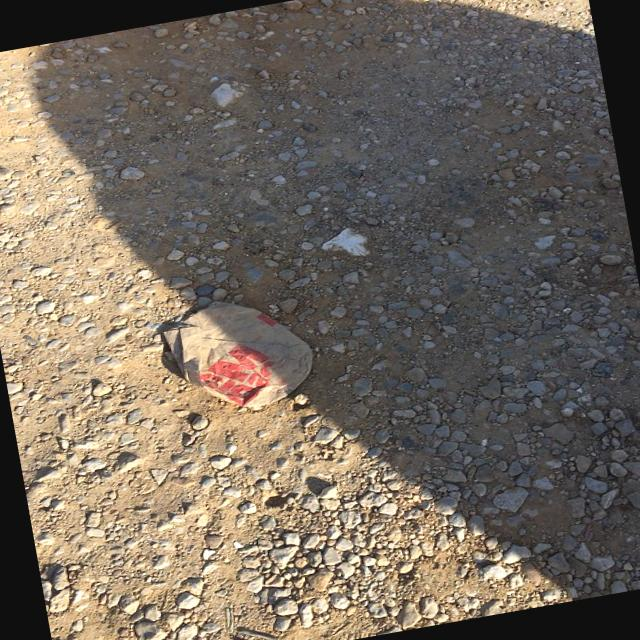Trash: (156, 281, 324, 426)
